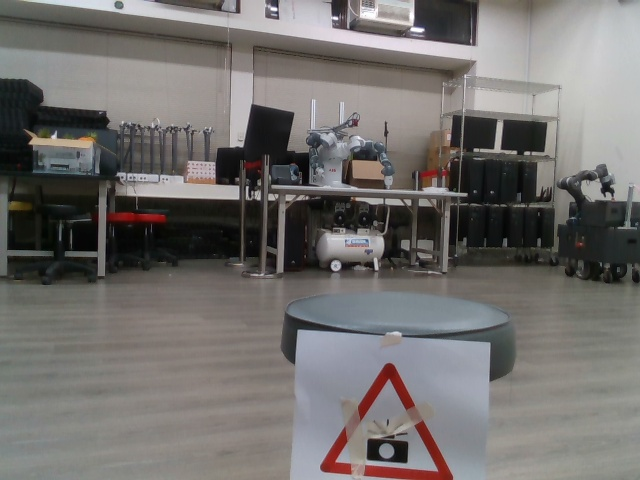camera: (316, 360, 458, 480)
